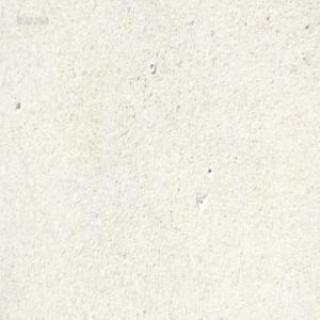Washertrack_idkeyframe: (148, 60, 155, 72)
